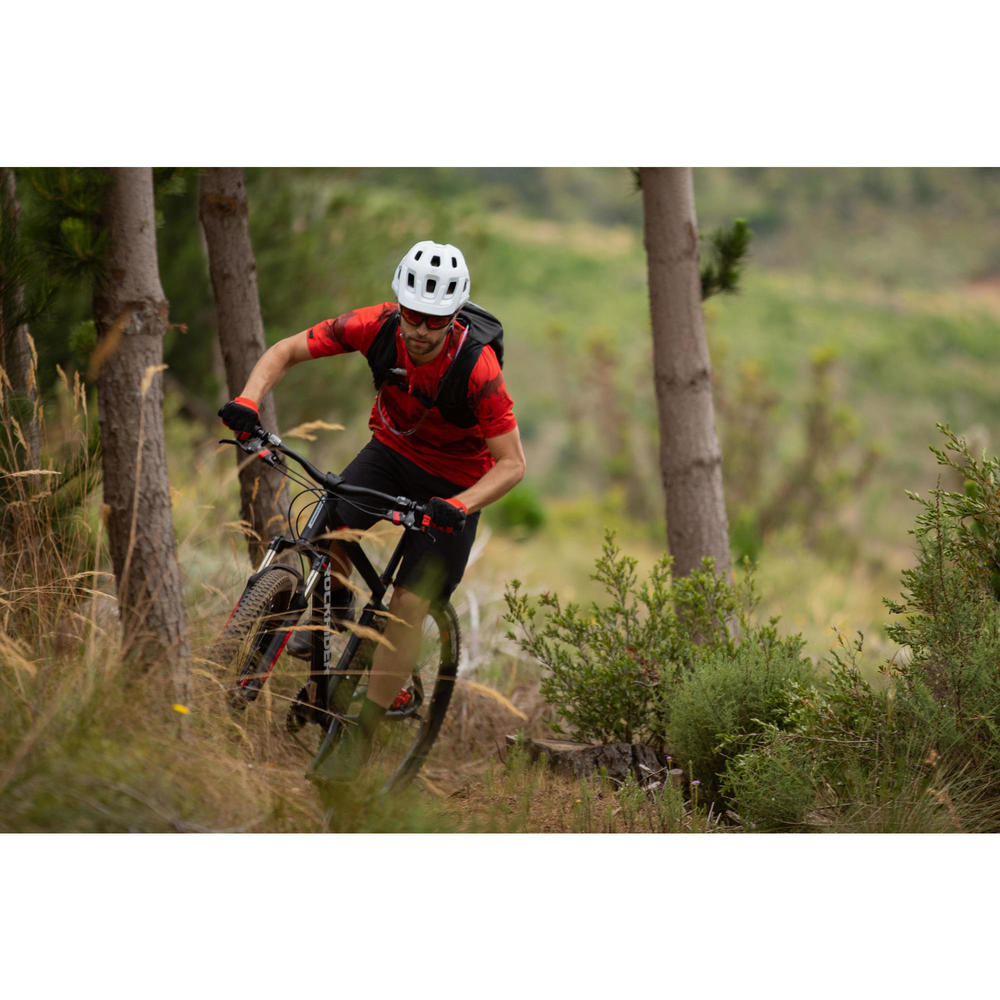MountainBike: (211, 391, 516, 784)
